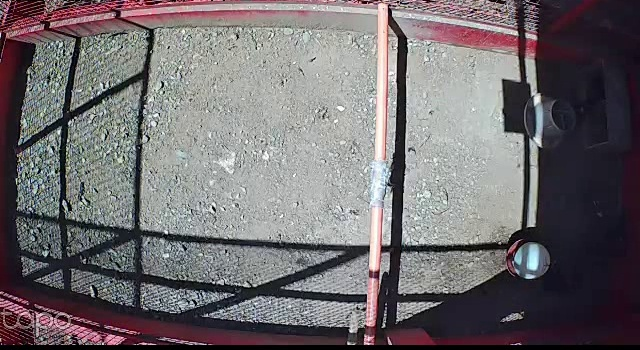Drinker: (503, 239, 553, 281)
Feeder: (522, 91, 581, 151)
